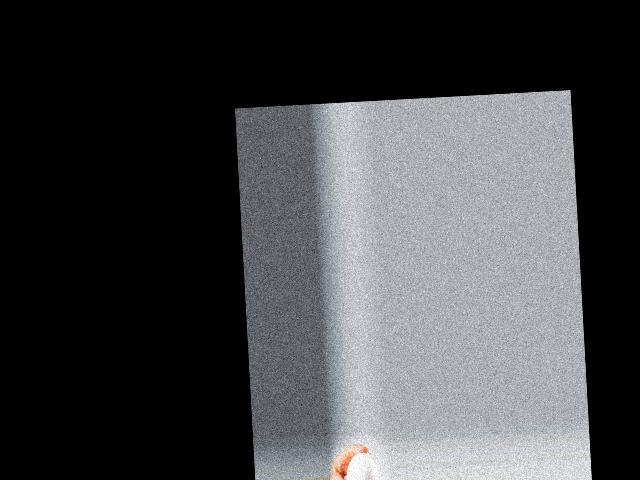egg: (346, 451, 378, 480)
